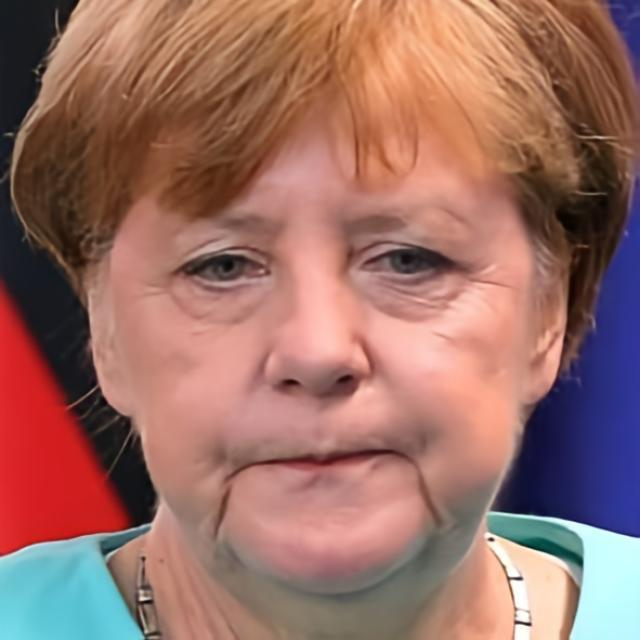anger: (115, 37, 530, 596)
